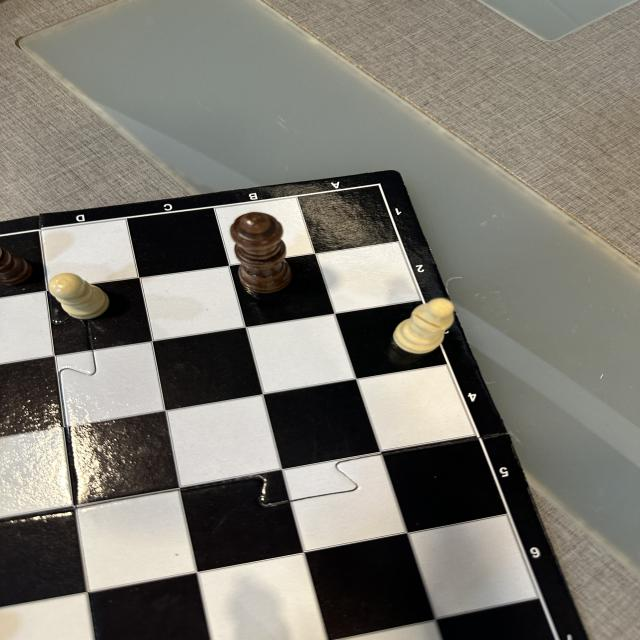Black-Pawn: (0, 245, 34, 288)
Black-Queen: (230, 212, 294, 294)
White-Bishop: (393, 297, 456, 355)
White-Pawn: (48, 272, 110, 320)
